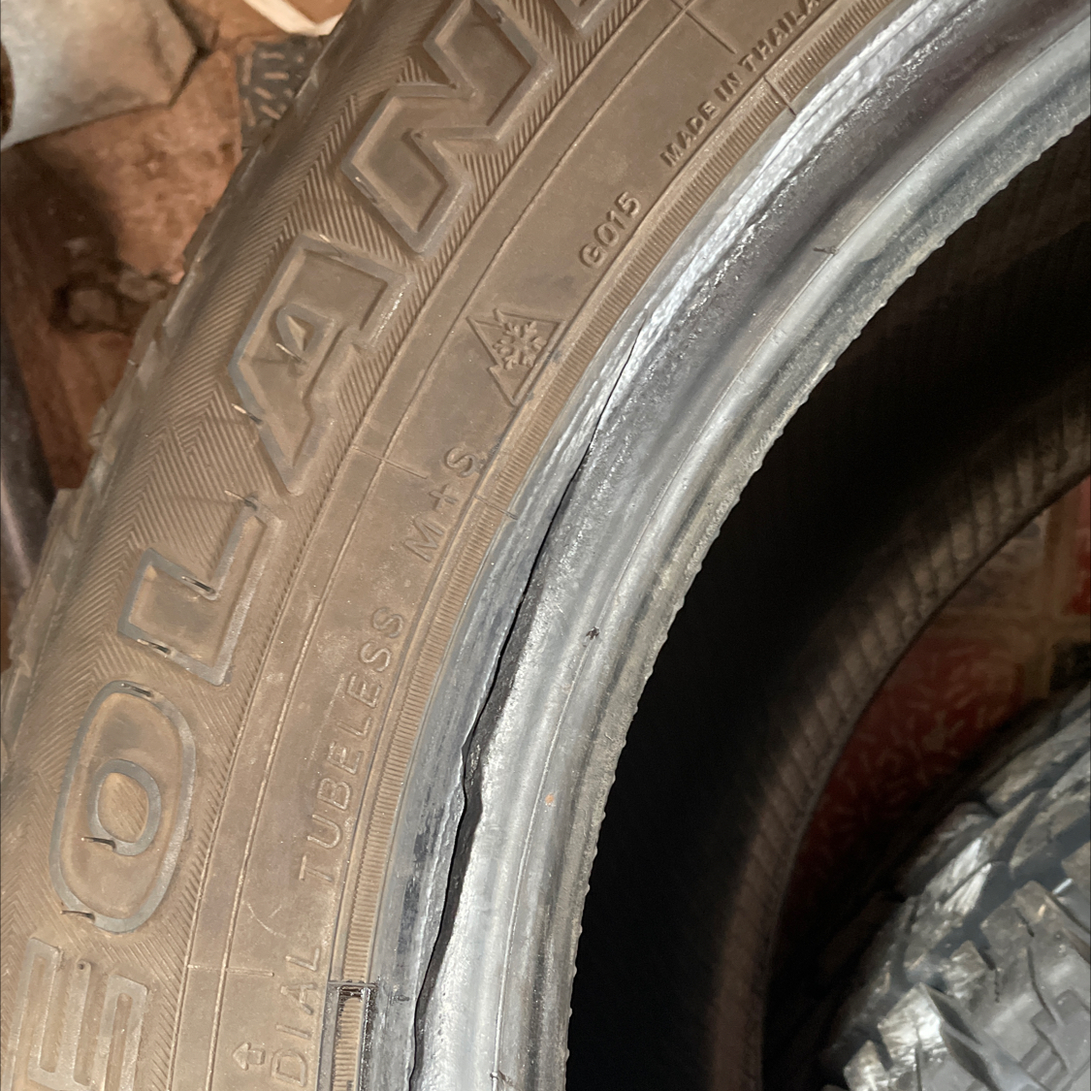bead_damage: (395, 4, 1029, 1090)
